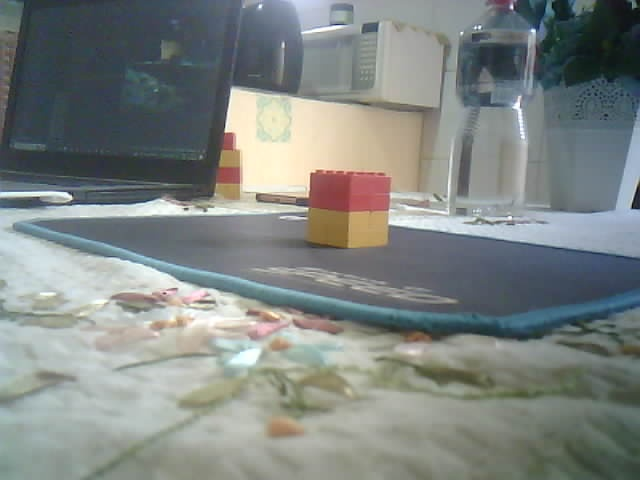lego: (303, 169, 391, 250), (214, 132, 242, 201)
